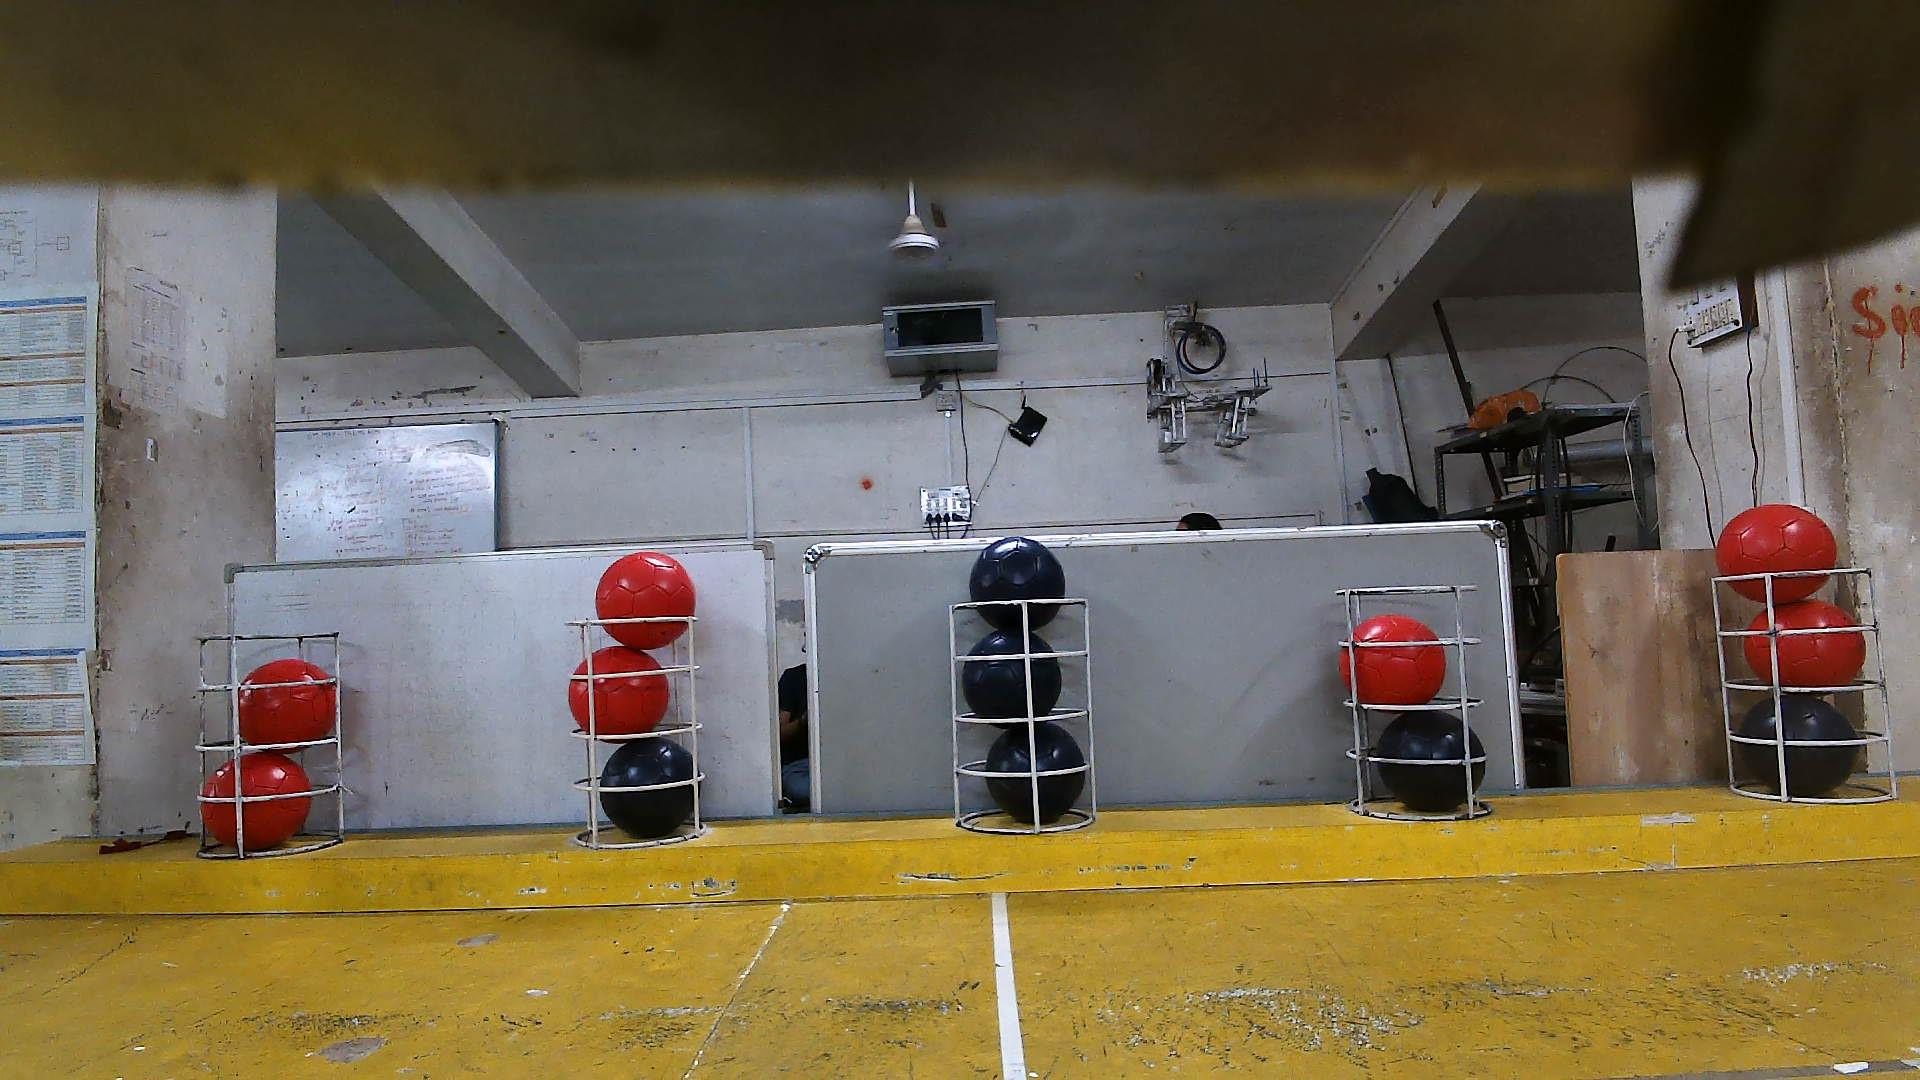dhoka: (1737, 695, 1859, 795), (1377, 708, 1485, 812), (963, 535, 1072, 636), (963, 632, 1063, 732), (986, 724, 1085, 825), (600, 737, 699, 836)
laale: (1717, 502, 1837, 605), (1743, 599, 1866, 688), (200, 754, 311, 851), (596, 551, 698, 649), (1338, 613, 1445, 705), (568, 646, 669, 742), (239, 658, 336, 754)
